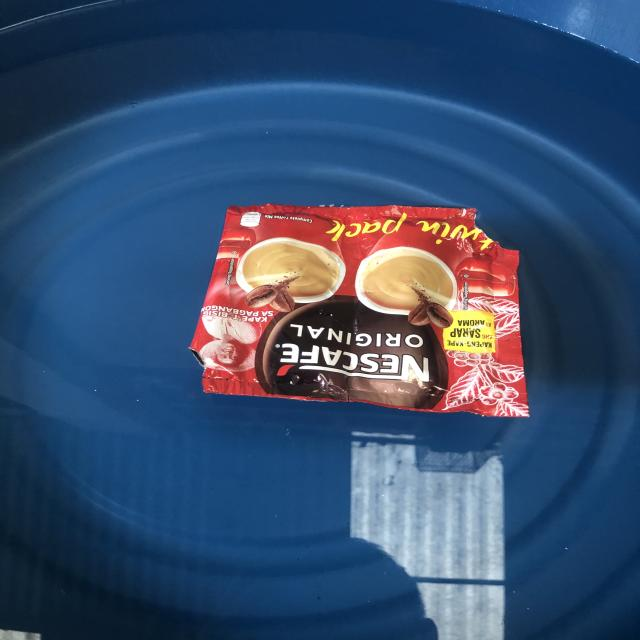Plastic Wrapper: (192, 204, 529, 415)
